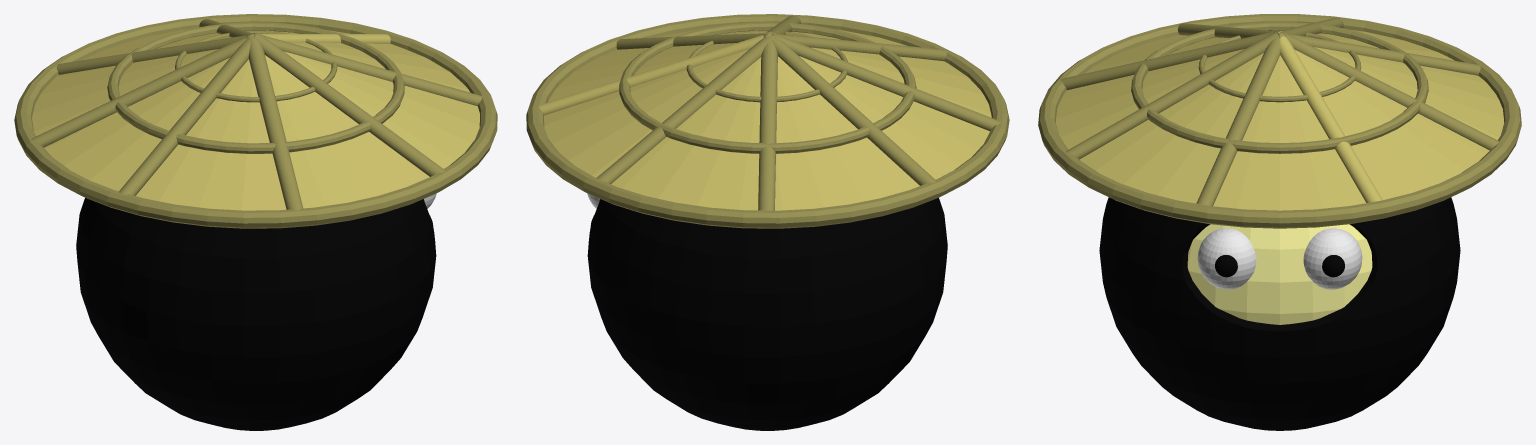
The model's file is bobbleninjaplayerhead.fbx.
The picture shows the model from 3 angles, left to right: view 1: azimuth 30°, elevation 25°; view 2: azimuth 150°, elevation 25°; view 3: azimuth 270°, elevation 25°; orthographic projection.
Parts seen in each view (by area): view 1: Torus.002, Sphere.001; view 2: Torus.002, Sphere.001; view 3: Torus.002, Sphere.001.
Boxes of the visible parts, bbox=[...] form: Torus.002: bbox=[14, 14, 497, 228]; Sphere.001: bbox=[76, 193, 436, 430]; Torus.002: bbox=[526, 14, 1009, 228]; Sphere.001: bbox=[587, 193, 947, 430]; Torus.002: bbox=[1038, 14, 1521, 228]; Sphere.001: bbox=[1099, 197, 1460, 430].
Size of the model in its own units: 227 by 198 by 228.
